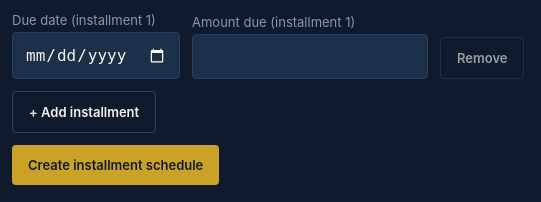
Test: CreateInstallmentScheduleForm › falls back to a generic error message when the action fails without one
In the date field labelled "Due date (installment 1)": [96, 56] box [12, 32, 180, 79], type "2026-09-01"
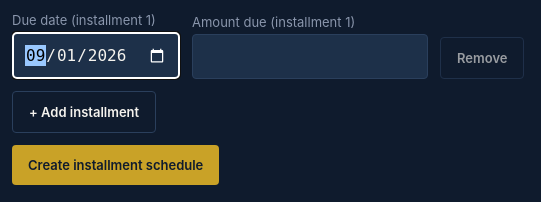
In the number field labelled "Amount due (installment 1)": [310, 56] box [192, 34, 428, 79], type "5000000"
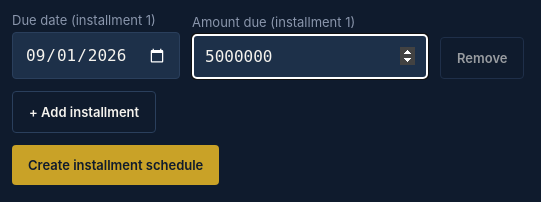
Click the button "Create installment schedule": [116, 165] box [12, 145, 219, 185]
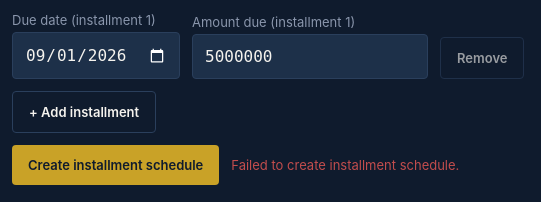
Check: the text "Failed to create installment schedule." is shown, box [231, 157, 459, 173]
